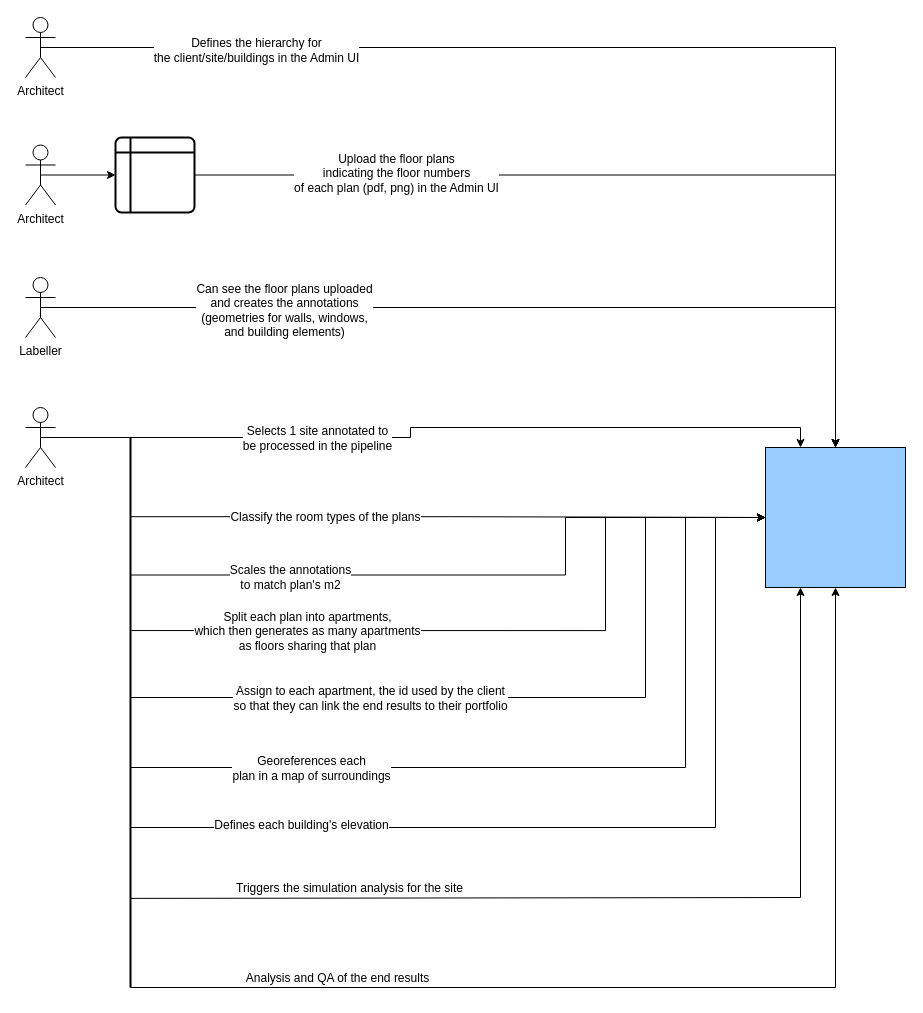
Image size: 923x1013. Some labels were removed from this diagram. The shapes that lost their labels are listed below. From the top down, each one's centre as x and y in pixels, then its label:
At point 154,174: "Client floor plans".
At point 835,517: "SLAM UI".
